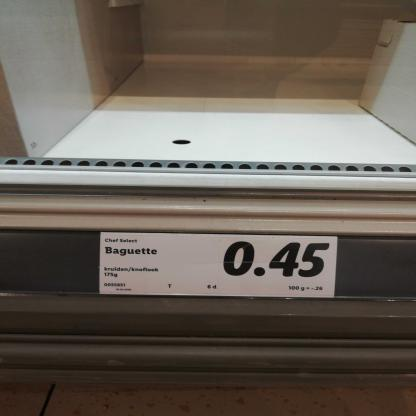prtg: (100, 233, 339, 300)
